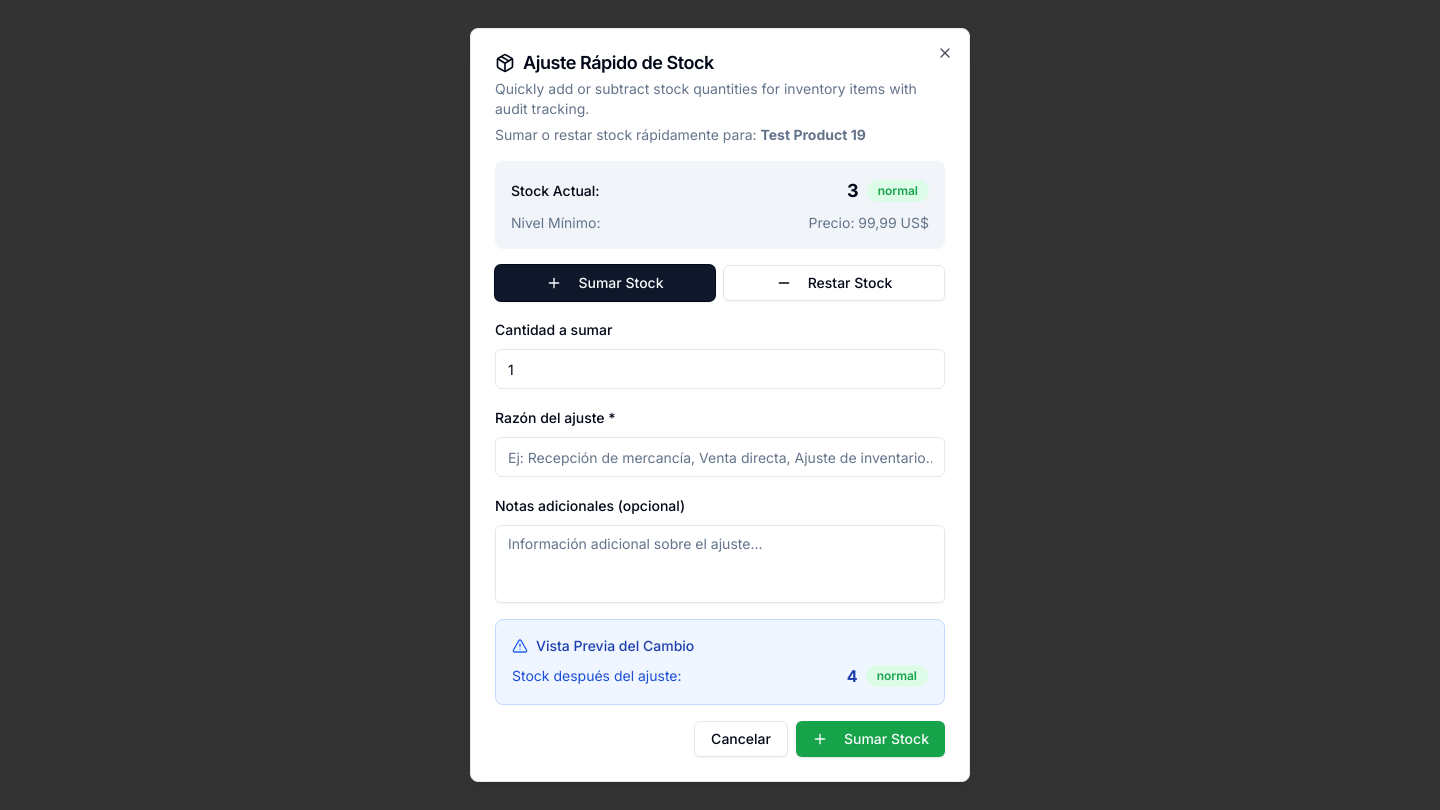
Test: QuickStockOperations › shows warning when stock will be zero
Click the button "Restar Stock" at (834, 283), box [723,265,945,301]
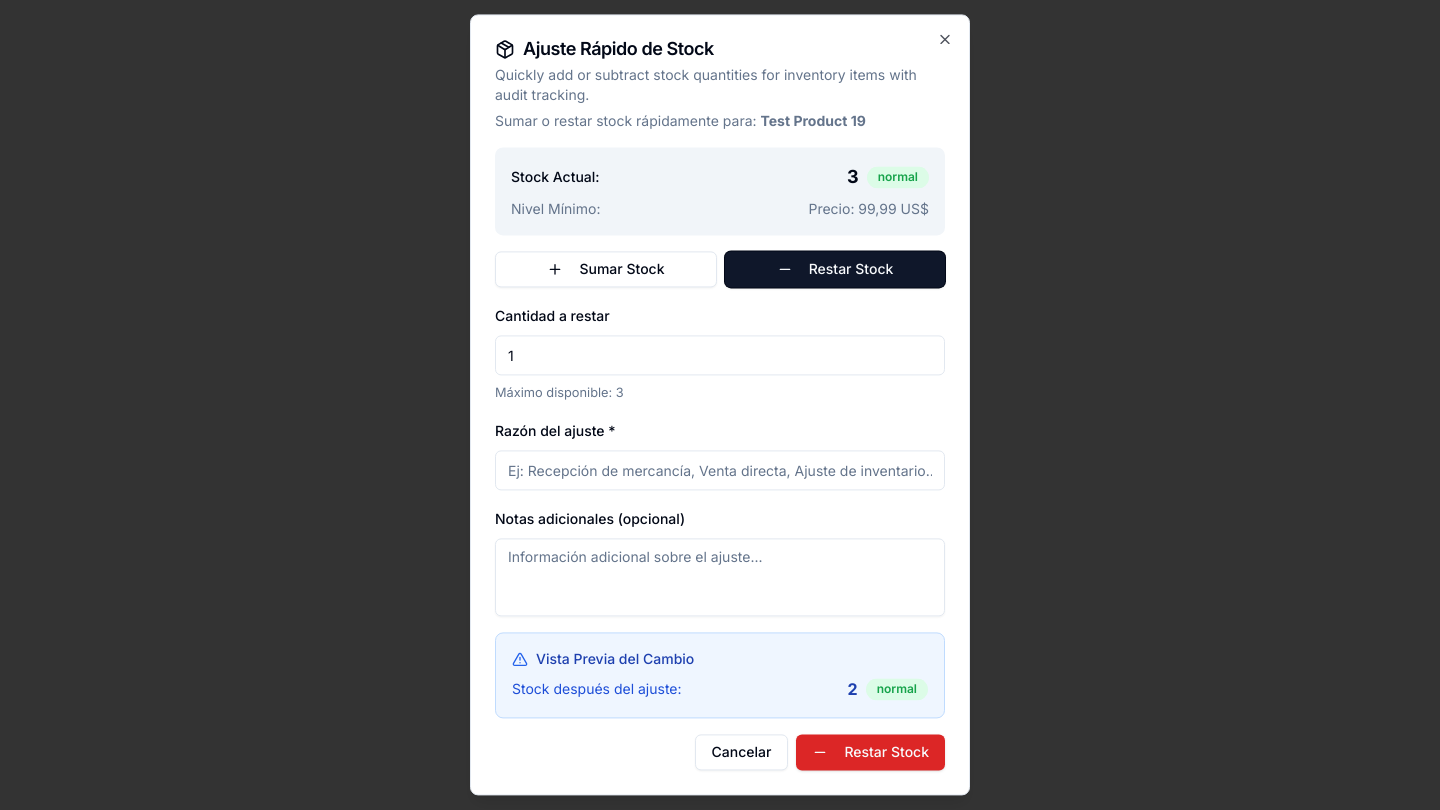
Clear the number field labelled "Cantidad a restar" at (720, 355), box [495,335,945,375]
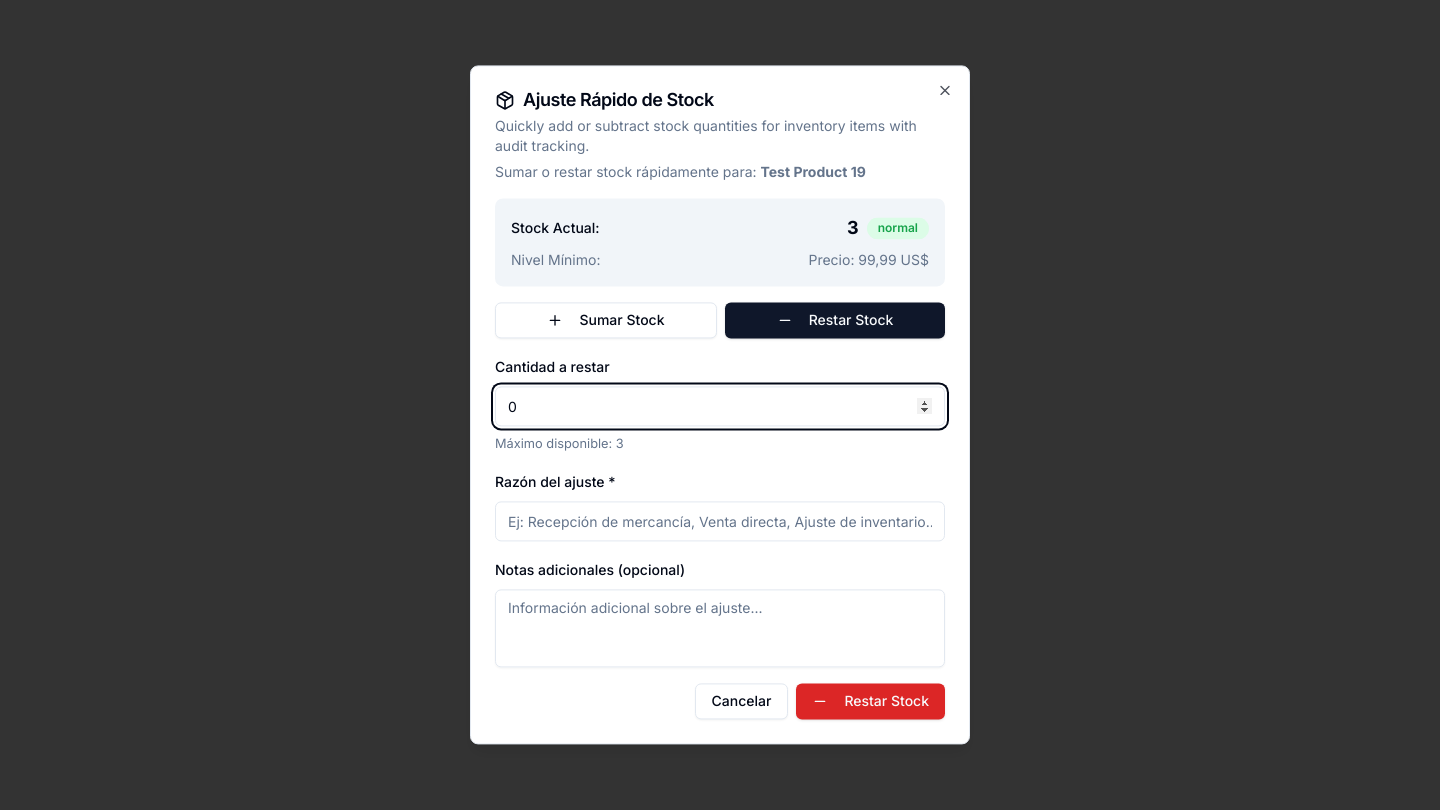
Type "3" into the number field labelled "Cantidad a restar" at (720, 406), box [495,386,945,426]
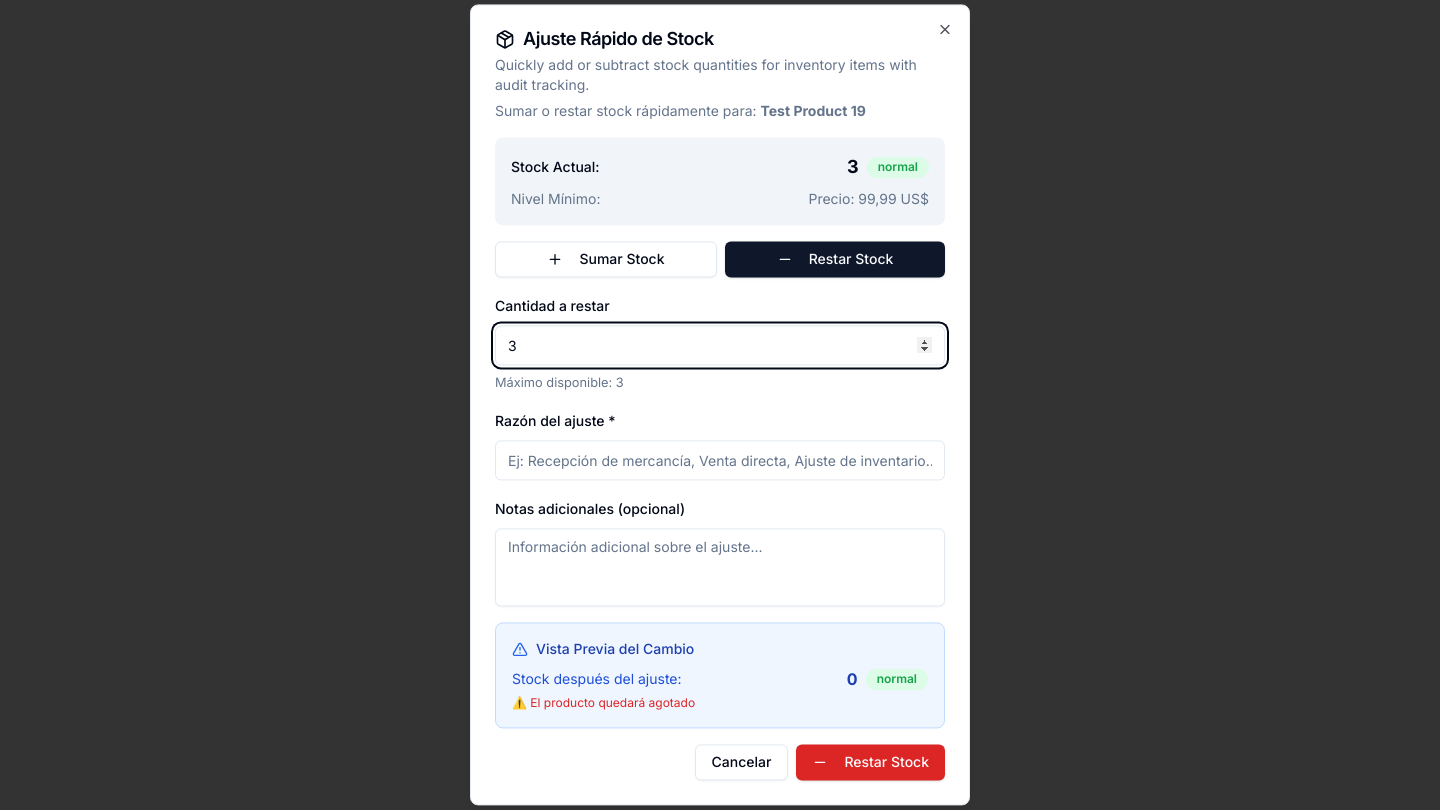
Expected: the text "⚠️ El producto quedará agotado" is shown, [512,696,695,711]
